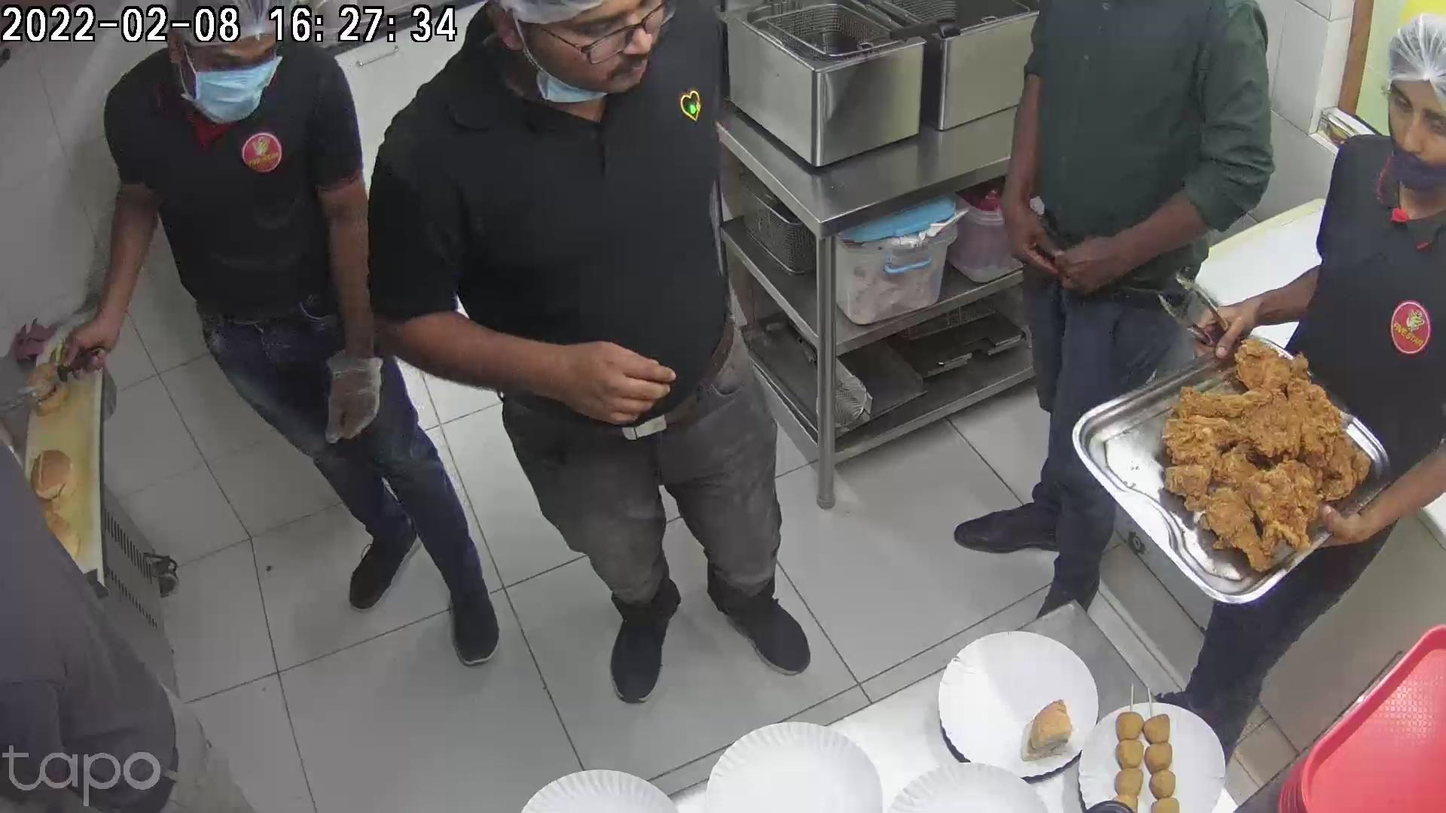gloves: (324, 330, 384, 445)
no_gloves: (516, 344, 674, 419)
